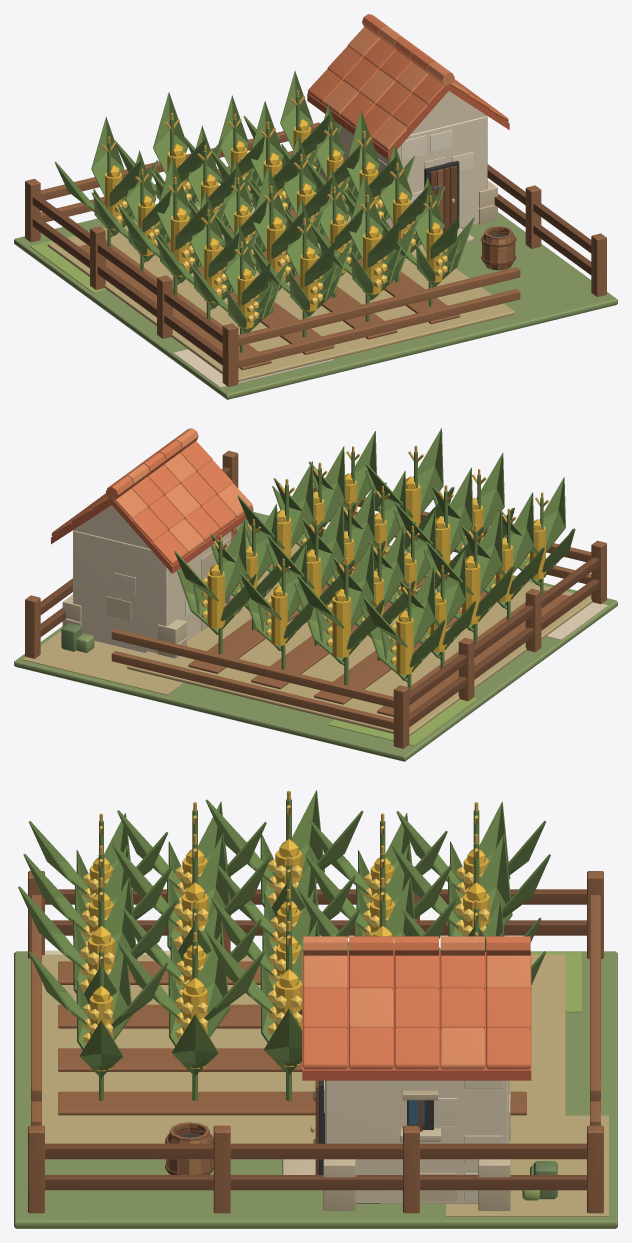
The model's file is farm.glb.
3 renders of one model, top to bottom at view 1: azimuth 30°, elevation 25°; view 2: azimuth 150°, elevation 25°; view 3: azimuth 270°, elevation 25°, orthographic. The views are drawn at different scales.
Parts seen in each view (by area): view 1: farm; view 2: farm; view 3: farm.
Boxes of the visible parts, left/top/right/bottom form: farm: left=14, top=14, right=617, bottom=399; farm: left=14, top=428, right=617, bottom=761; farm: left=14, top=790, right=617, bottom=1228.
Size of the model in its own units: 3.57 by 1.51 by 3.35.
